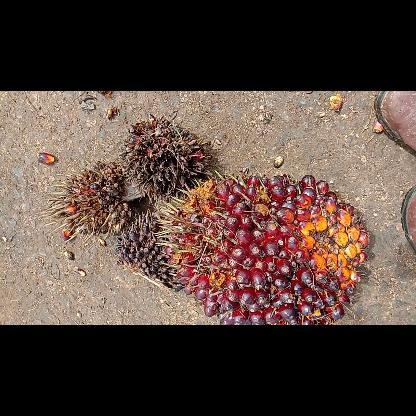TBS abnormal: (113, 115, 212, 199), (43, 158, 135, 240), (112, 207, 180, 293)
TBS masak: (157, 170, 374, 324)
